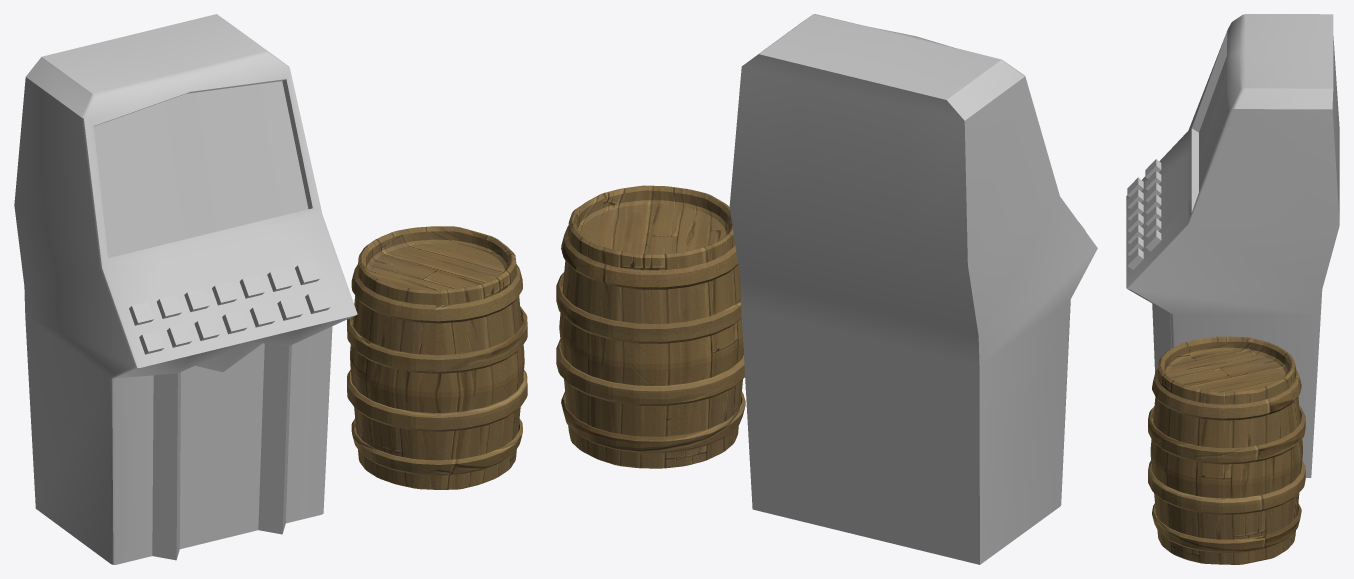
The model's file is Jukeboxibarrel.fbx.
The picture shows the model from 3 angles, left to right: view 1: azimuth 30°, elevation 25°; view 2: azimuth 150°, elevation 25°; view 3: azimuth 270°, elevation 25°; orthographic projection. The views are drawn at different scales.
Visible parts, largest first — view 1: Cube.008, Tynnyri.009, Cube.009; view 2: Cube.008, Tynnyri.009; view 3: Cube.008, Tynnyri.009, Cube.009.
Boxes of the visible parts, <box> form: Cube.008: <box>14,14,357,564</box>; Tynnyri.009: <box>347,226,527,489</box>; Cube.009: <box>129,261,330,354</box>; Cube.008: <box>729,14,1097,564</box>; Tynnyri.009: <box>556,185,745,468</box>; Cube.008: <box>1126,14,1339,477</box>; Tynnyri.009: <box>1148,336,1305,564</box>; Cube.009: <box>1127,159,1161,269</box>.
Bounding box in the file's own units: 393 × 378 × 191.
